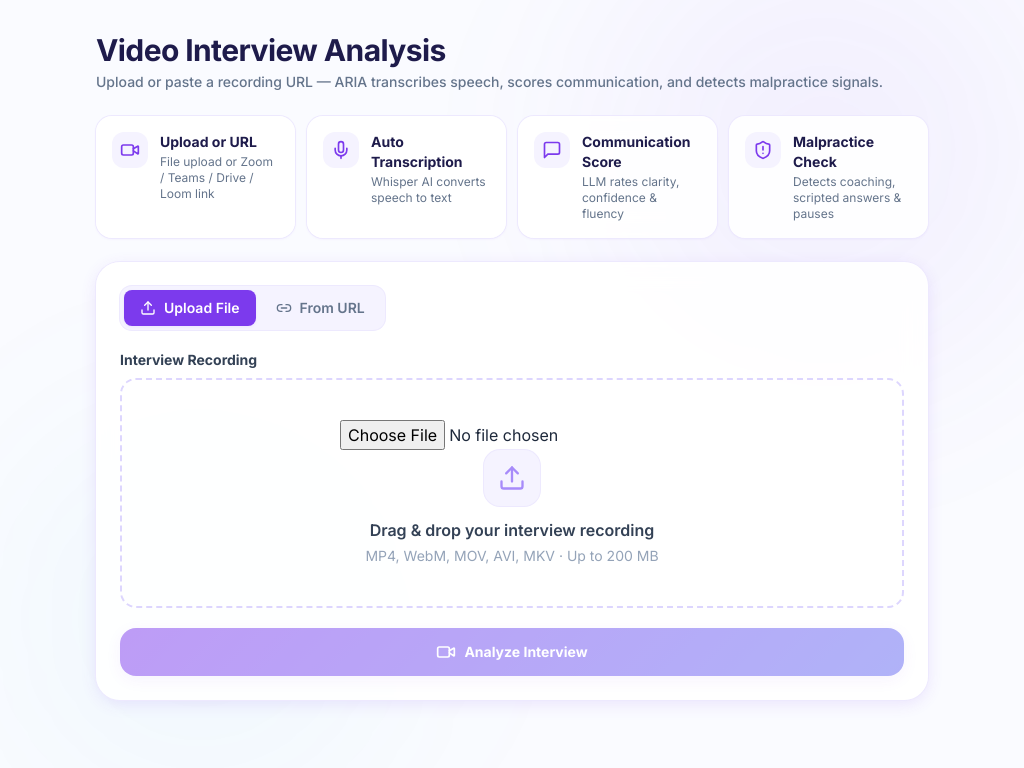
it: VideoPage › Analyze button enables when URL is entered
Click the button "From URL" at (320, 308), box left=260, top=290, right=381, bottom=326
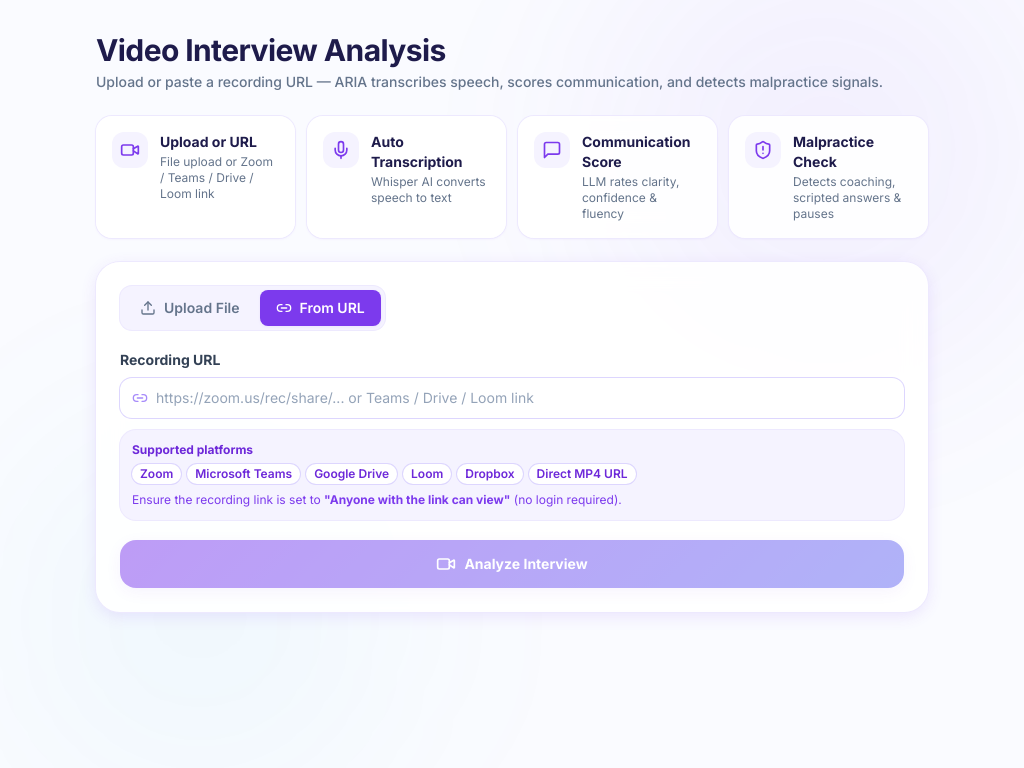
Type "https://zoom.us/rec/share/abc123" into the field with placeholder "https://zoom.us/rec/share/... or Teams / Drive / Loom link" at (512, 398), box left=120, top=378, right=904, bottom=418
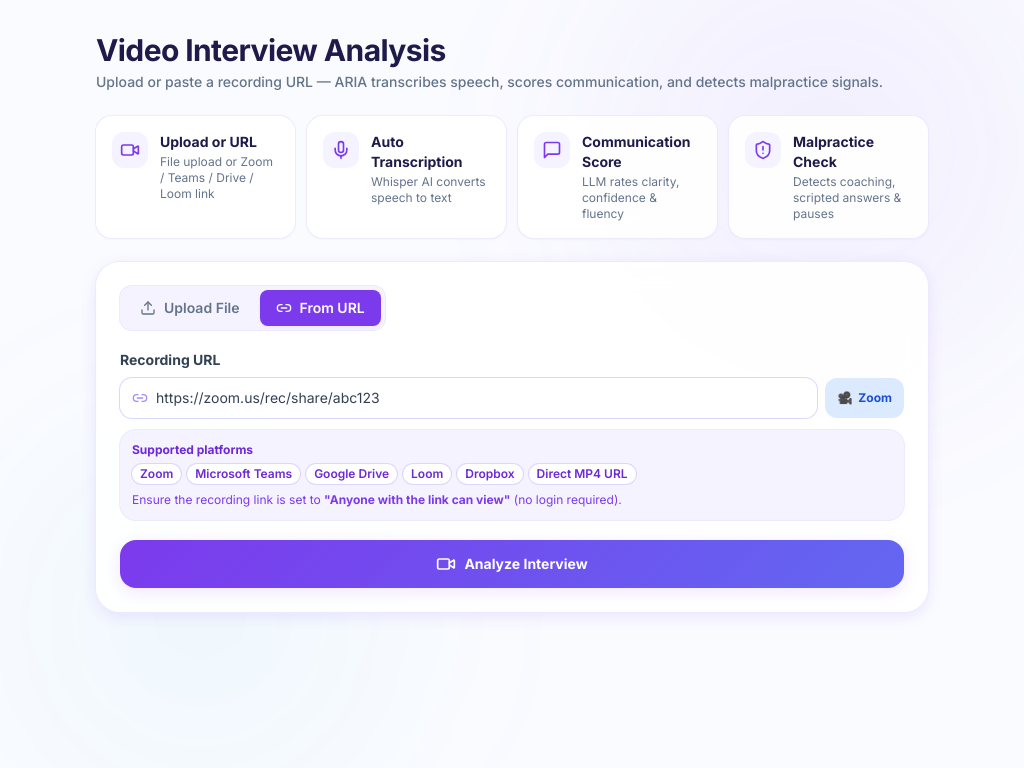
Check: the button "Analyze Interview" is enabled, box left=120, top=540, right=904, bottom=588
